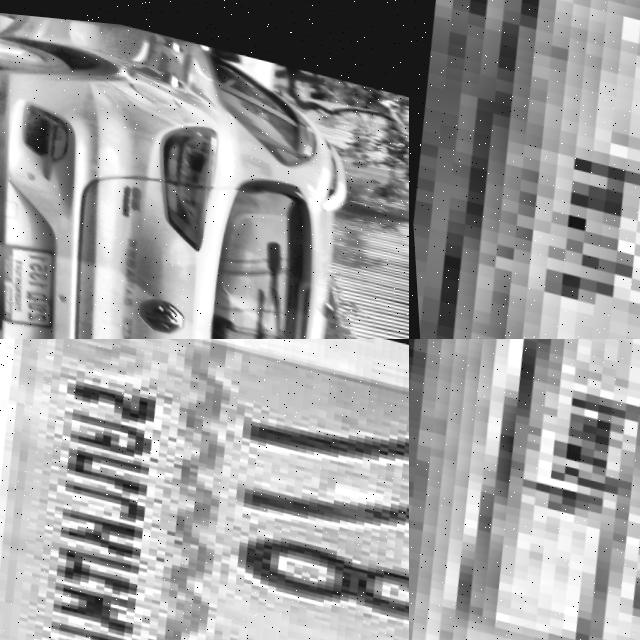license-plate: (0, 339, 409, 640), (409, 0, 640, 339), (410, 339, 640, 640), (0, 232, 65, 327)
